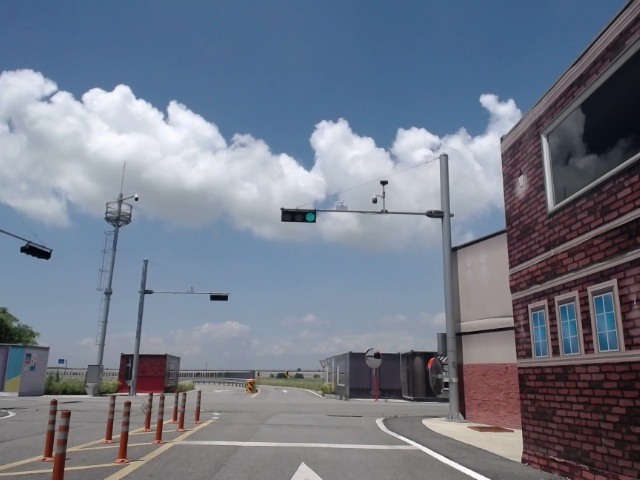green_3: (282, 210, 315, 222)
